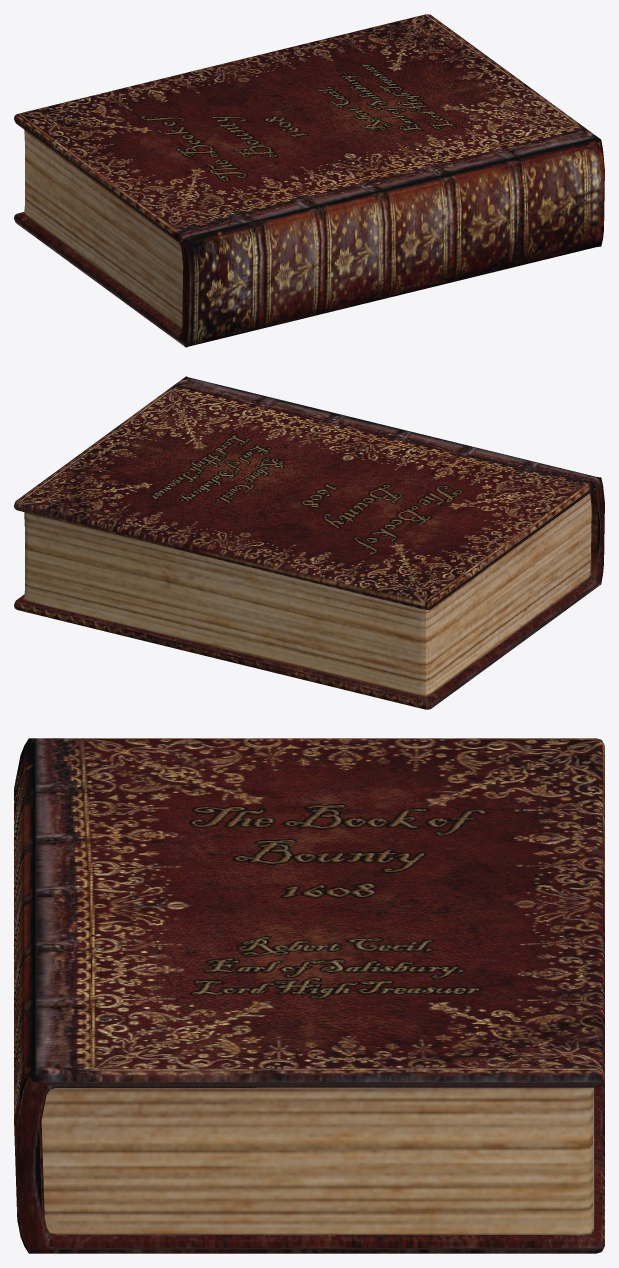
Rendered from Book.fbx.
3 renders of one model, top to bottom at view 1: azimuth 30°, elevation 25°; view 2: azimuth 150°, elevation 25°; view 3: azimuth 270°, elevation 25°, orthographic. The views are drawn at different scales.
Parts seen in each view (by area): view 1: Book; view 2: Book; view 3: Book.
Boxes of the visible parts, x1,y1,x2,y2 form: Book: [14, 14, 604, 347]; Book: [14, 376, 604, 709]; Book: [14, 738, 604, 1253].
Bounding box in the file's own units: 6.94 × 1.74 × 5.11.
